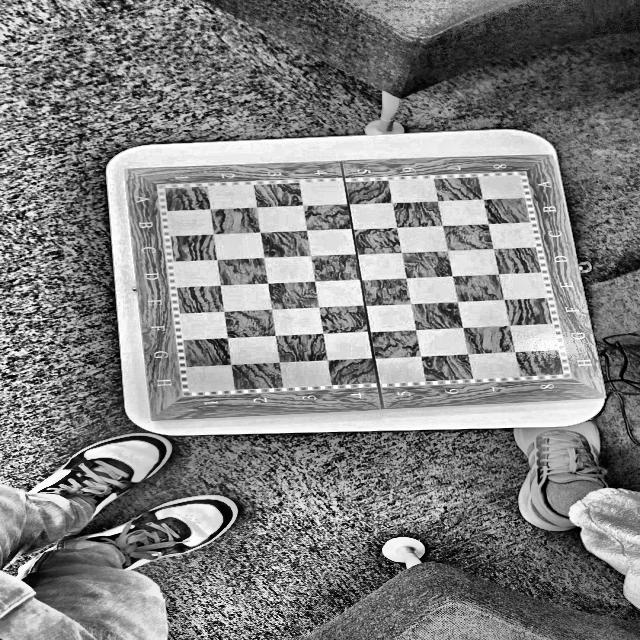chessboard: (127, 155, 586, 420)
